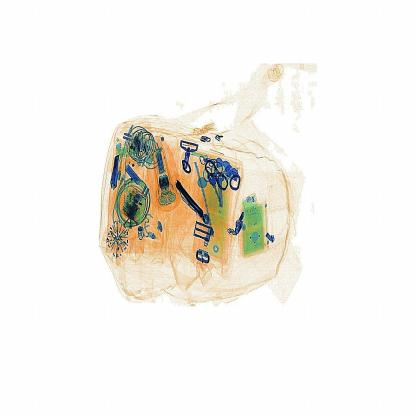knife: (174, 177, 209, 229)
